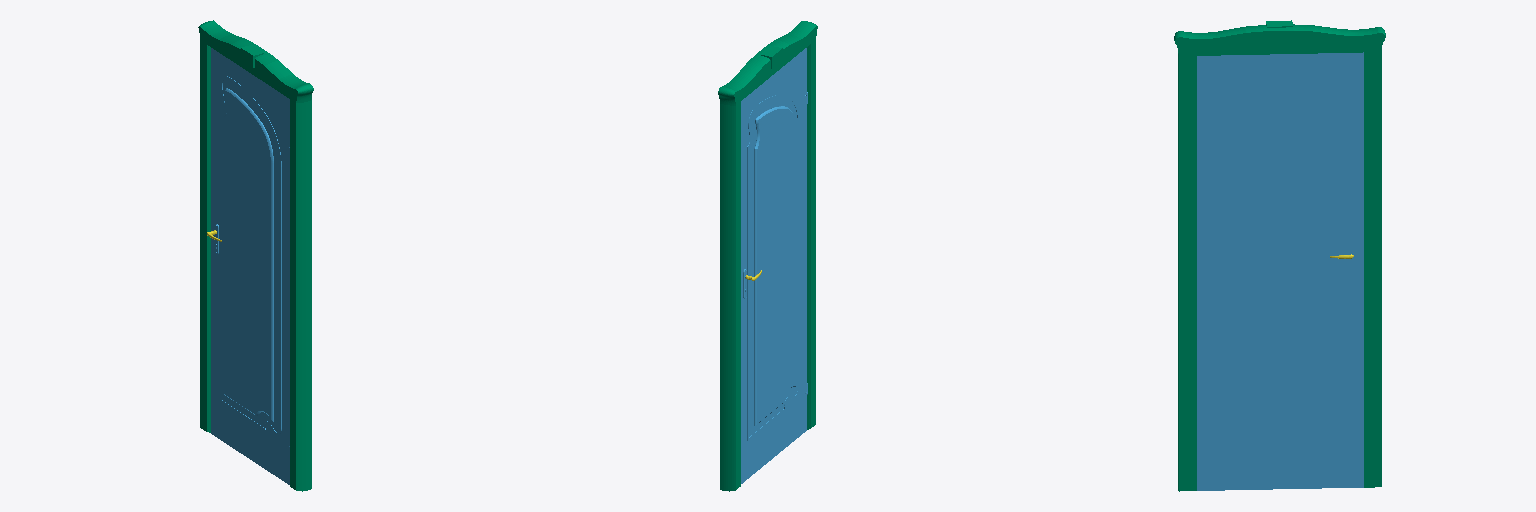
robot.urdf — partnet_cbd46097a3be604ce3f7a74e12a274ef:
<?xml version="1.0" ?>
<robot name="partnet_cbd46097a3be604ce3f7a74e12a274ef">
	<link name="base"/>
	<link name="link_0">
		<visual name="hinge-12">
			<origin xyz="-0.30969845503568644 0 0.024119412004947646"/>
			<geometry>
				<mesh filename="textured_objs/original-45.obj"/>
			</geometry>
		</visual>
		<visual name="hinge-12">
			<origin xyz="-0.30969845503568644 0 0.024119412004947646"/>
			<geometry>
				<mesh filename="textured_objs/original-48.obj"/>
			</geometry>
		</visual>
		<visual name="hinge-12">
			<origin xyz="-0.30969845503568644 0 0.024119412004947646"/>
			<geometry>
				<mesh filename="textured_objs/original-46.obj"/>
			</geometry>
		</visual>
		<visual name="hinge-13">
			<origin xyz="-0.30969845503568644 0 0.024119412004947646"/>
			<geometry>
				<mesh filename="textured_objs/original-43.obj"/>
			</geometry>
		</visual>
		<visual name="hinge-13">
			<origin xyz="-0.30969845503568644 0 0.024119412004947646"/>
			<geometry>
				<mesh filename="textured_objs/original-42.obj"/>
			</geometry>
		</visual>
		<visual name="hinge-13">
			<origin xyz="-0.30969845503568644 0 0.024119412004947646"/>
			<geometry>
				<mesh filename="textured_objs/original-41.obj"/>
			</geometry>
		</visual>
		<visual name="hinge-13">
			<origin xyz="-0.30969845503568644 0 0.024119412004947646"/>
			<geometry>
				<mesh filename="textured_objs/original-38.obj"/>
			</geometry>
		</visual>
		<visual name="hinge-13">
			<origin xyz="-0.30969845503568644 0 0.024119412004947646"/>
			<geometry>
				<mesh filename="textured_objs/original-39.obj"/>
			</geometry>
		</visual>
		<visual name="surface_board-7">
			<origin xyz="-0.30969845503568644 0 0.024119412004947646"/>
			<geometry>
				<mesh filename="textured_objs/original-8.obj"/>
			</geometry>
		</visual>
		<visual name="surface_board-7">
			<origin xyz="-0.30969845503568644 0 0.024119412004947646"/>
			<geometry>
				<mesh filename="textured_objs/original-9.obj"/>
			</geometry>
		</visual>
		<visual name="surface_board-7">
			<origin xyz="-0.30969845503568644 0 0.024119412004947646"/>
			<geometry>
				<mesh filename="textured_objs/original-5.obj"/>
			</geometry>
		</visual>
		<visual name="glass-8">
			<origin xyz="-0.30969845503568644 0 0.024119412004947646"/>
			<geometry>
				<mesh filename="textured_objs/original-6.obj"/>
			</geometry>
		</visual>
		<visual name="fixed_part-5">
			<origin xyz="-0.30969845503568644 0 0.024119412004947646"/>
			<geometry>
				<mesh filename="textured_objs/original-24.obj"/>
			</geometry>
		</visual>
		<visual name="fixed_part-5">
			<origin xyz="-0.30969845503568644 0 0.024119412004947646"/>
			<geometry>
				<mesh filename="textured_objs/original-13.obj"/>
			</geometry>
		</visual>
		<visual name="fixed_part-5">
			<origin xyz="-0.30969845503568644 0 0.024119412004947646"/>
			<geometry>
				<mesh filename="textured_objs/original-14.obj"/>
			</geometry>
		</visual>
		<visual name="fixed_part-5">
			<origin xyz="-0.30969845503568644 0 0.024119412004947646"/>
			<geometry>
				<mesh filename="textured_objs/original-11.obj"/>
			</geometry>
		</visual>
		<visual name="fixed_part-5">
			<origin xyz="-0.30969845503568644 0 0.024119412004947646"/>
			<geometry>
				<mesh filename="textured_objs/original-26.obj"/>
			</geometry>
		</visual>
		<visual name="fixed_part-5">
			<origin xyz="-0.30969845503568644 0 0.024119412004947646"/>
			<geometry>
				<mesh filename="textured_objs/original-22.obj"/>
			</geometry>
		</visual>
		<visual name="fixed_part-5">
			<origin xyz="-0.30969845503568644 0 0.024119412004947646"/>
			<geometry>
				<mesh filename="textured_objs/original-12.obj"/>
			</geometry>
		</visual>
		<visual name="fixed_part-5">
			<origin xyz="-0.30969845503568644 0 0.024119412004947646"/>
			<geometry>
				<mesh filename="textured_objs/original-21.obj"/>
			</geometry>
		</visual>
		<visual name="fixed_part-10">
			<origin xyz="-0.30969845503568644 0 0.024119412004947646"/>
			<geometry>
				<mesh filename="textured_objs/original-15.obj"/>
			</geometry>
		</visual>
		<visual name="fixed_part-10">
			<origin xyz="-0.30969845503568644 0 0.024119412004947646"/>
			<geometry>
				<mesh filename="textured_objs/original-18.obj"/>
			</geometry>
		</visual>
		<visual name="fixed_part-10">
			<origin xyz="-0.30969845503568644 0 0.024119412004947646"/>
			<geometry>
				<mesh filename="textured_objs/original-17.obj"/>
			</geometry>
		</visual>
		<visual name="fixed_part-10">
			<origin xyz="-0.30969845503568644 0 0.024119412004947646"/>
			<geometry>
				<mesh filename="textured_objs/original-16.obj"/>
			</geometry>
		</visual>
		<visual name="fixed_part-10">
			<origin xyz="-0.30969845503568644 0 0.024119412004947646"/>
			<geometry>
				<mesh filename="textured_objs/original-35.obj"/>
			</geometry>
		</visual>
		<visual name="fixed_part-10">
			<origin xyz="-0.30969845503568644 0 0.024119412004947646"/>
			<geometry>
				<mesh filename="textured_objs/original-31.obj"/>
			</geometry>
		</visual>
		<visual name="fixed_part-10">
			<origin xyz="-0.30969845503568644 0 0.024119412004947646"/>
			<geometry>
				<mesh filename="textured_objs/original-33.obj"/>
			</geometry>
		</visual>
		<visual name="fixed_part-10">
			<origin xyz="-0.30969845503568644 0 0.024119412004947646"/>
			<geometry>
				<mesh filename="textured_objs/original-30.obj"/>
			</geometry>
		</visual>
		<collision>
			<origin xyz="-0.30969845503568644 0 0.024119412004947646"/>
			<geometry>
				<mesh filename="textured_objs/original-45.obj"/>
			</geometry>
		</collision>
		<collision>
			<origin xyz="-0.30969845503568644 0 0.024119412004947646"/>
			<geometry>
				<mesh filename="textured_objs/original-48.obj"/>
			</geometry>
		</collision>
		<collision>
			<origin xyz="-0.30969845503568644 0 0.024119412004947646"/>
			<geometry>
				<mesh filename="textured_objs/original-46.obj"/>
			</geometry>
		</collision>
		<collision>
			<origin xyz="-0.30969845503568644 0 0.024119412004947646"/>
			<geometry>
				<mesh filename="textured_objs/original-43.obj"/>
			</geometry>
		</collision>
		<collision>
			<origin xyz="-0.30969845503568644 0 0.024119412004947646"/>
			<geometry>
				<mesh filename="textured_objs/original-42.obj"/>
			</geometry>
		</collision>
		<collision>
			<origin xyz="-0.30969845503568644 0 0.024119412004947646"/>
			<geometry>
				<mesh filename="textured_objs/original-41.obj"/>
			</geometry>
		</collision>
		<collision>
			<origin xyz="-0.30969845503568644 0 0.024119412004947646"/>
			<geometry>
				<mesh filename="textured_objs/original-38.obj"/>
			</geometry>
		</collision>
		<collision>
			<origin xyz="-0.30969845503568644 0 0.024119412004947646"/>
			<geometry>
				<mesh filename="textured_objs/original-39.obj"/>
			</geometry>
		</collision>
		<collision>
			<origin xyz="-0.30969845503568644 0 0.024119412004947646"/>
			<geometry>
				<mesh filename="textured_objs/original-8.obj"/>
			</geometry>
		</collision>
		<collision>
			<origin xyz="-0.30969845503568644 0 0.024119412004947646"/>
			<geometry>
				<mesh filename="textured_objs/original-9.obj"/>
			</geometry>
		</collision>
		<collision>
			<origin xyz="-0.30969845503568644 0 0.024119412004947646"/>
			<geometry>
				<mesh filename="textured_objs/original-5.obj"/>
			</geometry>
		</collision>
		<collision>
			<origin xyz="-0.30969845503568644 0 0.024119412004947646"/>
			<geometry>
				<mesh filename="textured_objs/original-6.obj"/>
			</geometry>
		</collision>
		<collision>
			<origin xyz="-0.30969845503568644 0 0.024119412004947646"/>
			<geometry>
				<mesh filename="textured_objs/original-24.obj"/>
			</geometry>
		</collision>
		<collision>
			<origin xyz="-0.30969845503568644 0 0.024119412004947646"/>
			<geometry>
				<mesh filename="textured_objs/original-13.obj"/>
			</geometry>
		</collision>
		<collision>
			<origin xyz="-0.30969845503568644 0 0.024119412004947646"/>
			<geometry>
				<mesh filename="textured_objs/original-14.obj"/>
			</geometry>
		</collision>
		<collision>
			<origin xyz="-0.30969845503568644 0 0.024119412004947646"/>
			<geometry>
				<mesh filename="textured_objs/original-11.obj"/>
			</geometry>
		</collision>
		<collision>
			<origin xyz="-0.30969845503568644 0 0.024119412004947646"/>
			<geometry>
				<mesh filename="textured_objs/original-26.obj"/>
			</geometry>
		</collision>
		<collision>
			<origin xyz="-0.30969845503568644 0 0.024119412004947646"/>
			<geometry>
				<mesh filename="textured_objs/original-22.obj"/>
			</geometry>
		</collision>
		<collision>
			<origin xyz="-0.30969845503568644 0 0.024119412004947646"/>
			<geometry>
				<mesh filename="textured_objs/original-12.obj"/>
			</geometry>
		</collision>
		<collision>
			<origin xyz="-0.30969845503568644 0 0.024119412004947646"/>
			<geometry>
				<mesh filename="textured_objs/original-21.obj"/>
			</geometry>
		</collision>
		<collision>
			<origin xyz="-0.30969845503568644 0 0.024119412004947646"/>
			<geometry>
				<mesh filename="textured_objs/original-15.obj"/>
			</geometry>
		</collision>
		<collision>
			<origin xyz="-0.30969845503568644 0 0.024119412004947646"/>
			<geometry>
				<mesh filename="textured_objs/original-18.obj"/>
			</geometry>
		</collision>
		<collision>
			<origin xyz="-0.30969845503568644 0 0.024119412004947646"/>
			<geometry>
				<mesh filename="textured_objs/original-17.obj"/>
			</geometry>
		</collision>
		<collision>
			<origin xyz="-0.30969845503568644 0 0.024119412004947646"/>
			<geometry>
				<mesh filename="textured_objs/original-16.obj"/>
			</geometry>
		</collision>
		<collision>
			<origin xyz="-0.30969845503568644 0 0.024119412004947646"/>
			<geometry>
				<mesh filename="textured_objs/original-35.obj"/>
			</geometry>
		</collision>
		<collision>
			<origin xyz="-0.30969845503568644 0 0.024119412004947646"/>
			<geometry>
				<mesh filename="textured_objs/original-31.obj"/>
			</geometry>
		</collision>
		<collision>
			<origin xyz="-0.30969845503568644 0 0.024119412004947646"/>
			<geometry>
				<mesh filename="textured_objs/original-33.obj"/>
			</geometry>
		</collision>
		<collision>
			<origin xyz="-0.30969845503568644 0 0.024119412004947646"/>
			<geometry>
				<mesh filename="textured_objs/original-30.obj"/>
			</geometry>
		</collision>
	</link>
	<joint name="joint_0" type="revolute">
		<origin xyz="0.30969845503568644 0 -0.024119412004947646"/>
		<axis xyz="0 1 0"/>
		<child link="link_0"/>
		<parent link="link_1"/>
		<limit lower="0.0" upper="1.5707963267948966"/>
	</joint>
	<link name="link_1">
		<visual name="outside_frame-1">
			<origin xyz="0 0 0"/>
			<geometry>
				<mesh filename="textured_objs/original-4.obj"/>
			</geometry>
		</visual>
		<visual name="other_leaf-15">
			<origin xyz="0 0 0"/>
			<geometry>
				<mesh filename="textured_objs/original-3.obj"/>
			</geometry>
		</visual>
		<visual name="other_leaf-15">
			<origin xyz="0 0 0"/>
			<geometry>
				<mesh filename="textured_objs/original-2.obj"/>
			</geometry>
		</visual>
		<collision>
			<origin xyz="0 0 0"/>
			<geometry>
				<mesh filename="textured_objs/original-4.obj"/>
			</geometry>
		</collision>
		<collision>
			<origin xyz="0 0 0"/>
			<geometry>
				<mesh filename="textured_objs/original-3.obj"/>
			</geometry>
		</collision>
		<collision>
			<origin xyz="0 0 0"/>
			<geometry>
				<mesh filename="textured_objs/original-2.obj"/>
			</geometry>
		</collision>
	</link>
	<joint name="joint_1" type="fixed">
		<origin rpy="1.570796326794897 0 -1.570796326794897" xyz="0 0 0"/>
		<child link="link_1"/>
		<parent link="base"/>
	</joint>
	<link name="link_2">
		<visual name="movable_part-6">
			<origin xyz="0.27921457650139947 -0.008014151086460485 0"/>
			<geometry>
				<mesh filename="textured_objs/original-20.obj"/>
			</geometry>
		</visual>
		<visual name="movable_part-11">
			<origin xyz="0.27921457650139947 -0.008014151086460485 0"/>
			<geometry>
				<mesh filename="textured_objs/original-29.obj"/>
			</geometry>
		</visual>
		<collision>
			<origin xyz="0.27921457650139947 -0.008014151086460485 0"/>
			<geometry>
				<mesh filename="textured_objs/original-20.obj"/>
			</geometry>
		</collision>
		<collision>
			<origin xyz="0.27921457650139947 -0.008014151086460485 0"/>
			<geometry>
				<mesh filename="textured_objs/original-29.obj"/>
			</geometry>
		</collision>
	</link>
	<joint name="joint_2" type="revolute">
		<origin xyz="-0.5889130315370859 0.008014151086460485 0.024119412004947646"/>
		<axis xyz="0 0 -1"/>
		<child link="link_2"/>
		<parent link="link_0"/>
		<limit lower="-0.0" upper="1.5707963267948966"/>
	</joint>
</robot>

--- Facts derived from the render (not from the file) ---
Views: 3 orthographic renders of the robot side by side, from view 1: azimuth 30°, elevation 25°; view 2: azimuth 150°, elevation 25°; view 3: azimuth 270°, elevation 25°.
Robot: partnet_cbd46097a3be604ce3f7a74e12a274ef — 4 links, 3 joints (2 revolute, 1 fixed); root link base; default pose: every joint at zero.
Visible links, largest first — view 1: link_0, link_1; view 2: link_0, link_1; view 3: link_0, link_1.
Link boxes in pixels (left/top/right/bottom): link_0: left=211, top=48, right=289, bottom=484; link_1: left=198, top=20, right=313, bottom=491; link_0: left=741, top=48, right=807, bottom=483; link_1: left=718, top=21, right=817, bottom=491; link_0: left=1197, top=52, right=1363, bottom=490; link_1: left=1174, top=20, right=1385, bottom=491.
Bounding box of the posed robot: 0.1402 × 0.7905 × 1.9 m (x, y, z).
Meshes: 33 distinct files referenced, 33 mesh visuals loaded (33 OBJ).
